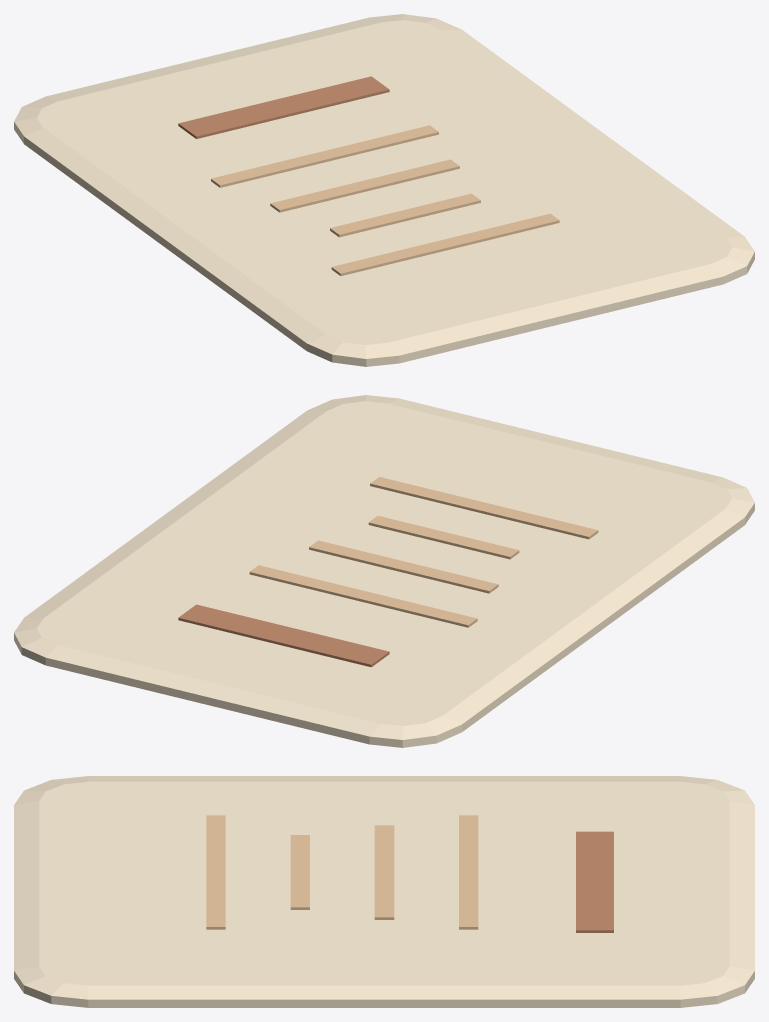
The model's file is test_paper.glb.
The picture shows the model from 3 angles, top to bottom: view 1: azimuth 30°, elevation 25°; view 2: azimuth 150°, elevation 25°; view 3: azimuth 270°, elevation 25°; orthographic projection. The views are drawn at different scales.
Visible parts, largest first — view 1: model; view 2: model; view 3: model.
Part boxes in pixels (x1=…): model: x1=14, y1=14, x2=754, y2=366; model: x1=14, y1=395, x2=754, y2=747; model: x1=14, y1=776, x2=754, y2=1007.
Bounding box in the file's own units: 0.25 × 0.01 × 0.35.
